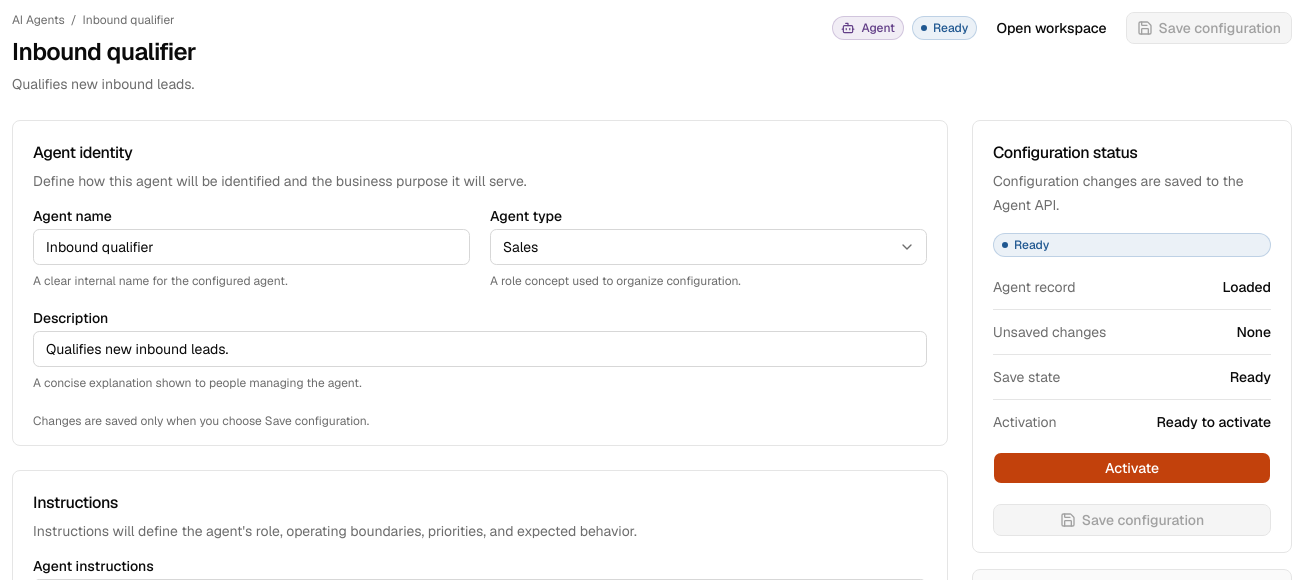
Test: Agent Detail page › allows OWNER to edit and sends only changed fields
Check: the button "Save configuration" next to "Open workspace" is disabled, box x1=1126 y1=12 x2=1292 y2=44
Step 1. Replace the text in the field labelled "Agent name" with "Updated qualifier" → (252,247), box x1=33 y1=229 x2=470 y2=265
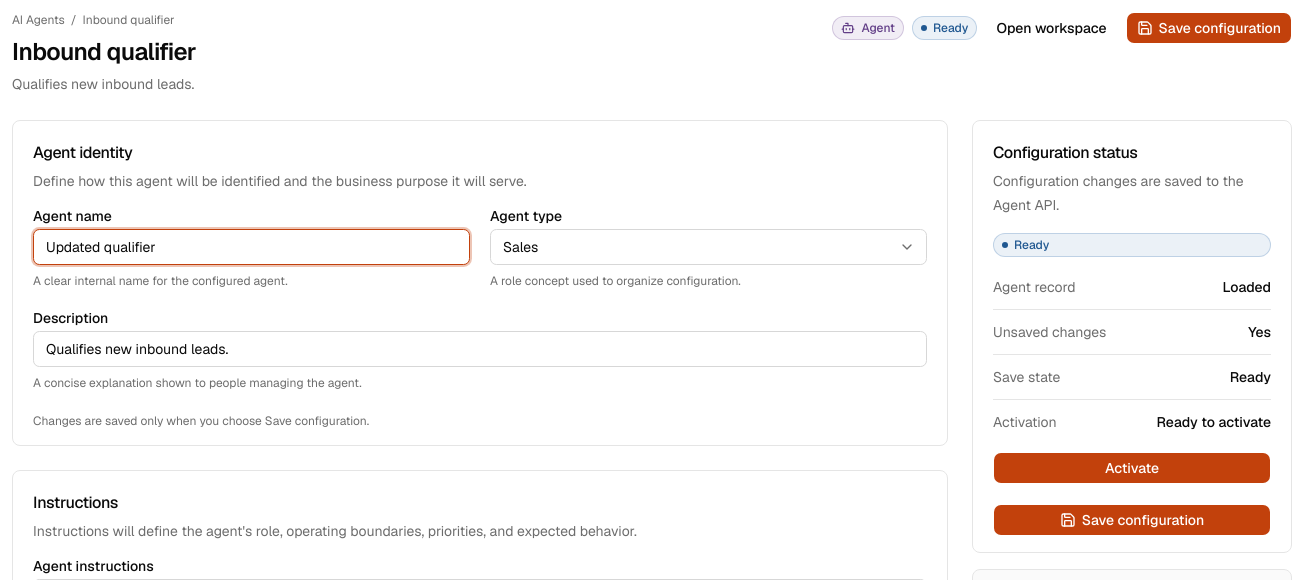
Check: the button "Save configuration" next to "Open workspace" is enabled
Step 2. Click the button "Save configuration" next to "Open workspace" → (1209,28), box x1=1126 y1=12 x2=1292 y2=44
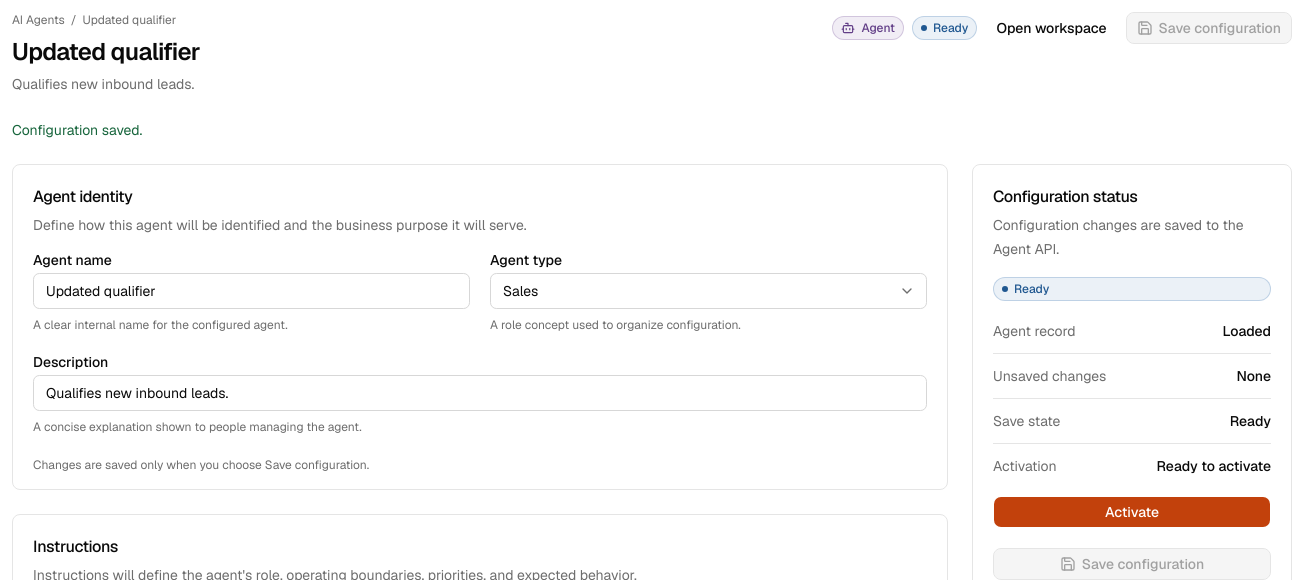
Check: the message reads "Configuration saved.", box x1=12 y1=121 x2=142 y2=139
Check: the button "Save configuration" next to "Open workspace" is disabled, box x1=1126 y1=12 x2=1292 y2=44
